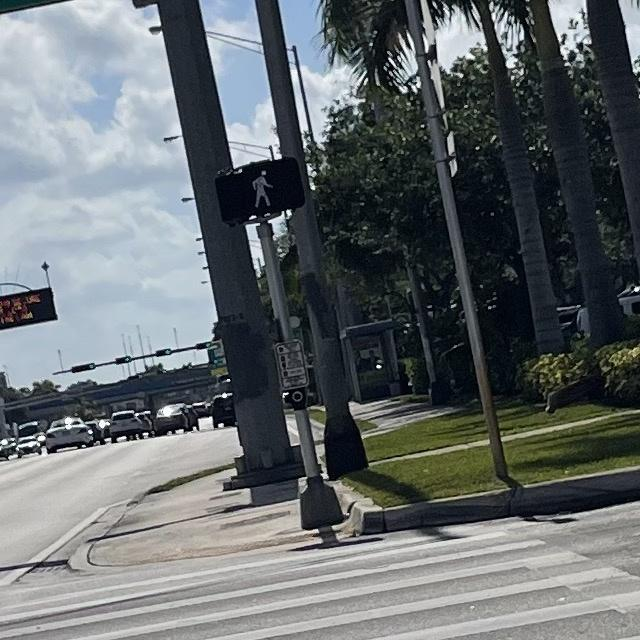curb: (336, 468, 639, 536), (69, 493, 146, 570)
